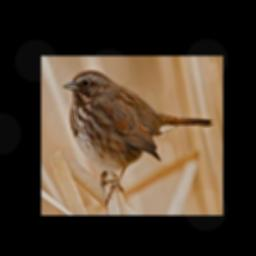Sparrow: (61, 69, 214, 205)
